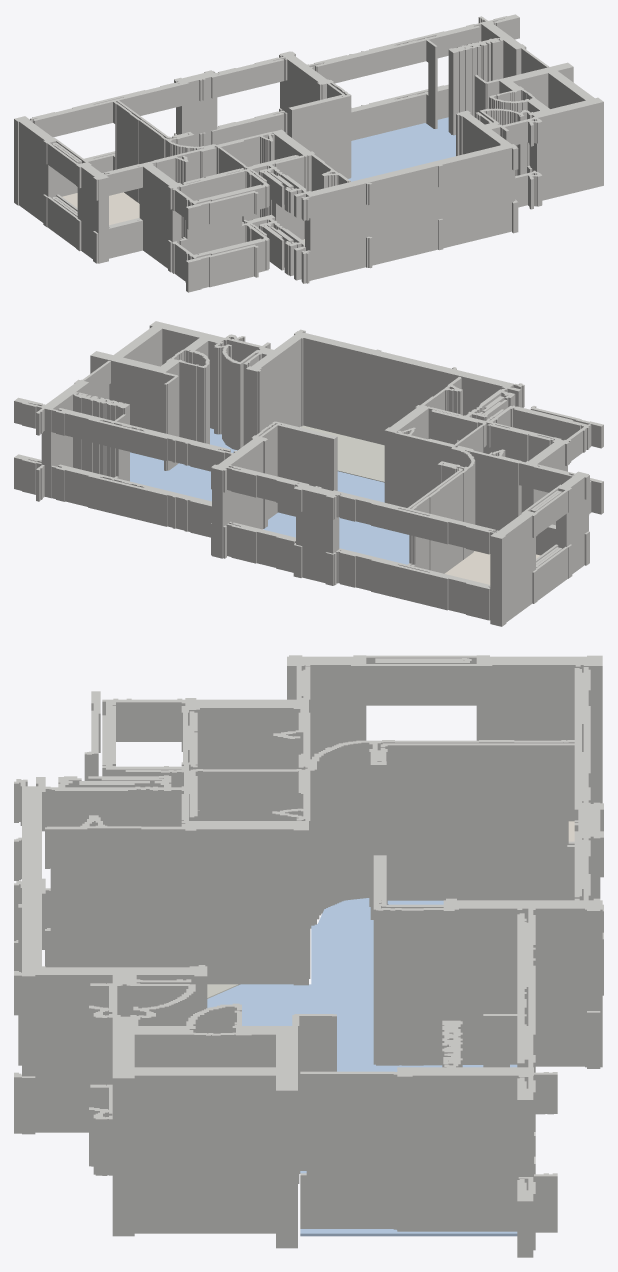
3 renders of one model, top to bottom at view 1: azimuth 30°, elevation 25°; view 2: azimuth 150°, elevation 25°; view 3: azimuth 270°, elevation 25°, orthographic. The views are drawn at different scales.
Visible parts, largest first — view 1: walls, room:bedroom:0, room:other:2; view 2: walls, room:bedroom:0, room:yard:1, room:other:2; view 3: walls, room:bedroom:0.
Part boxes in pixels (x1,y1,x2,y2): walls: (14, 14, 603, 292); room:bedroom:0: (348, 117, 455, 181); room:other:2: (62, 192, 139, 224); walls: (14, 321, 603, 626); room:bedroom:0: (130, 428, 409, 564); room:yard:1: (301, 425, 384, 482); room:other:2: (444, 551, 540, 584); walls: (14, 655, 603, 1257); room:bedroom:0: (207, 898, 517, 1236).
Bounding box in the file's own units: 16.9 × 2.8 × 9.48.
